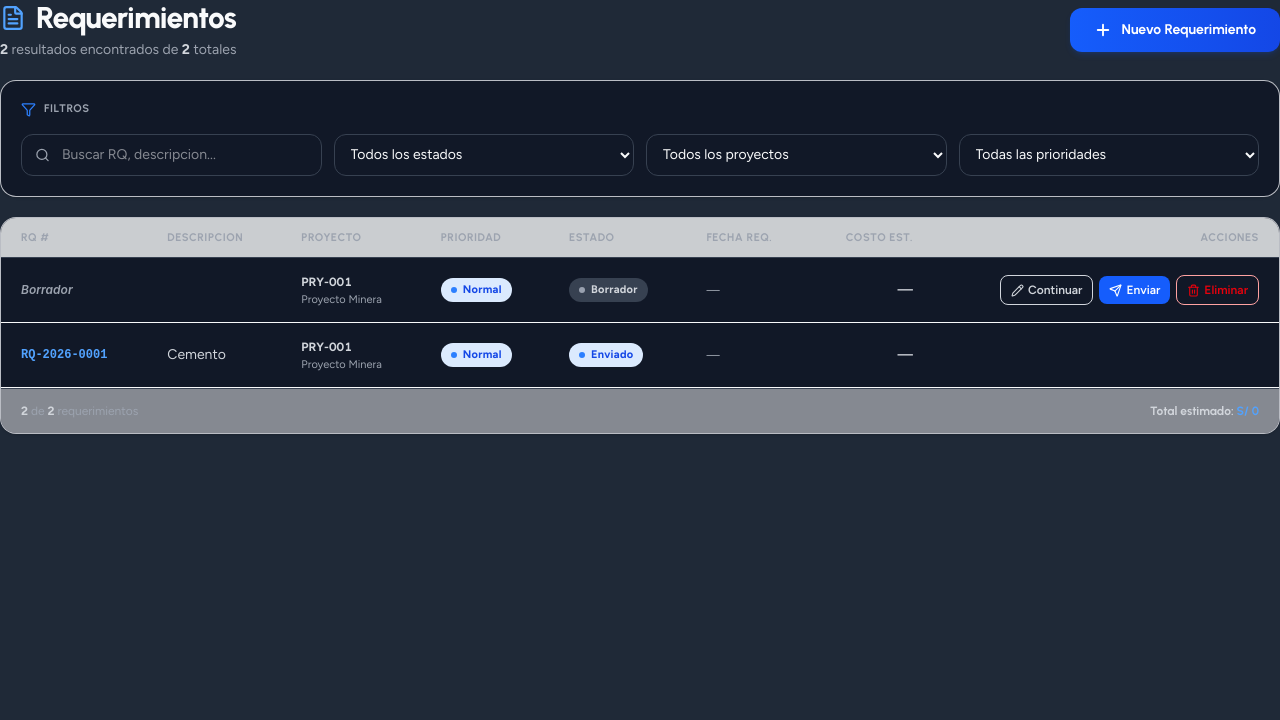
Test: RequestListPage — borradores (SYSPCC-031) › Eliminar pide confirmación; cancelar no borra nada
Click the button with aria-label "Eliminar el borrador": (1218, 290) x1=1176 y1=275 x2=1259 y2=305
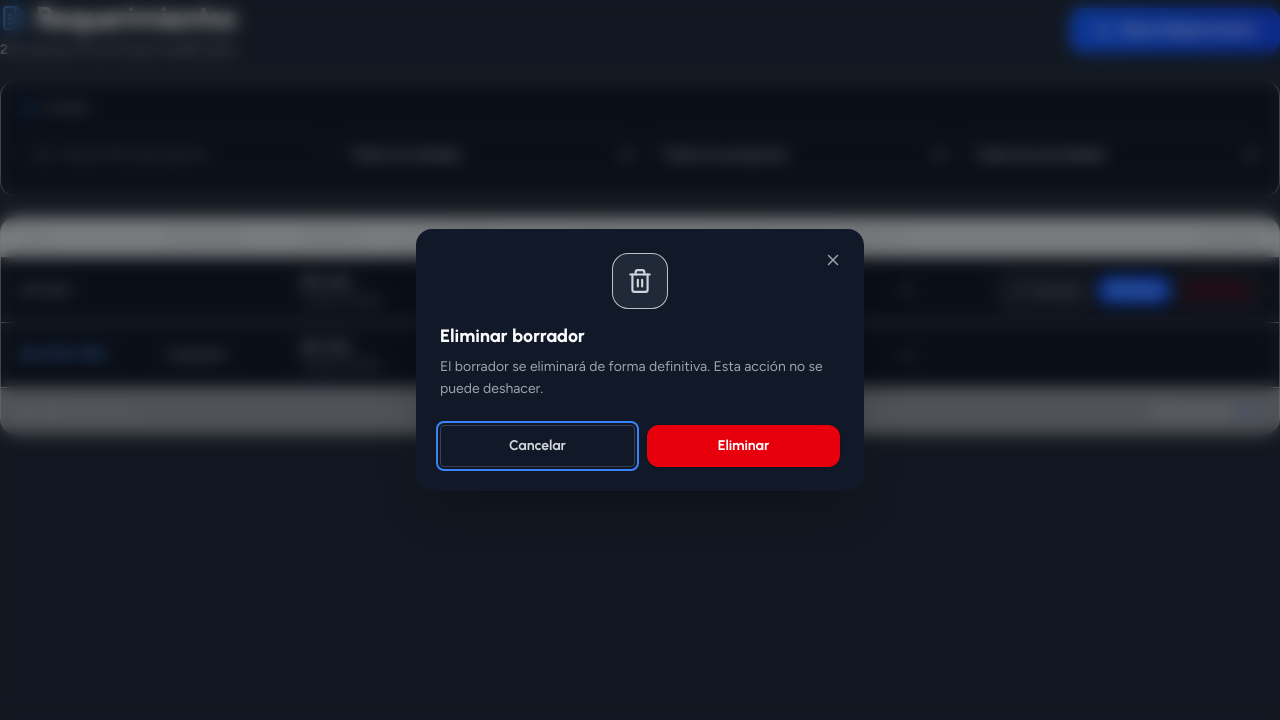
Result: the text "no se puede deshacer" is shown at x1=440 y1=358 x2=823 y2=397
Click the button "Cancelar": (538, 446) x1=440 y1=425 x2=635 y2=467
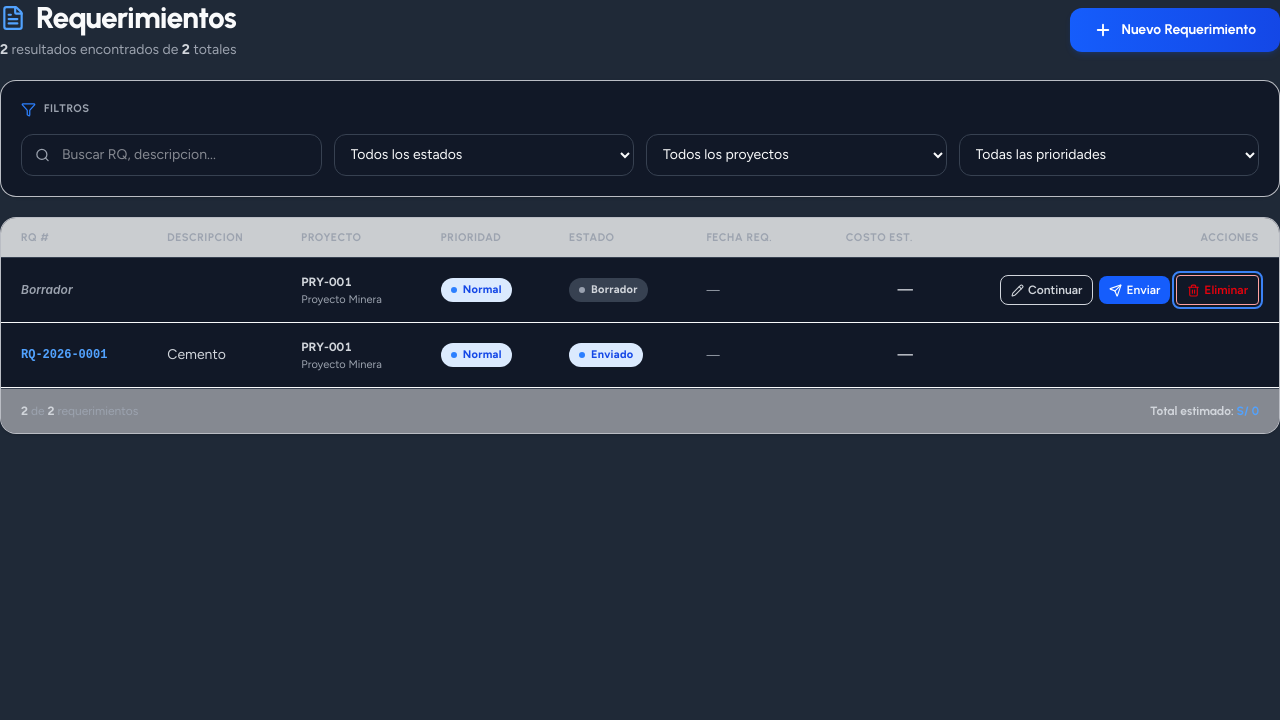
Result: the dialog is gone
